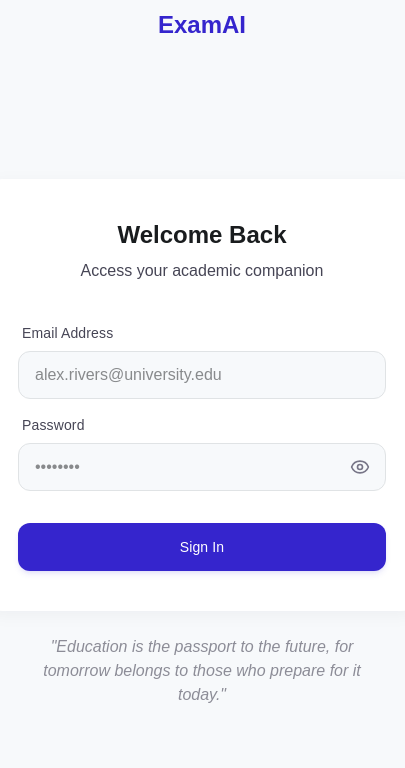
Test case: Login › shows the error banner when login fails
Type "student@examai.com" into the field labelled "Email Address" at (202, 375), box x1=18 y1=351 x2=386 y2=399
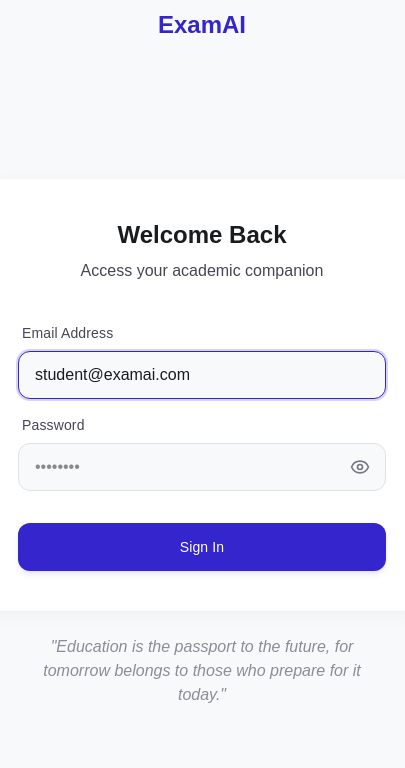
Type "wrong" into the password field labelled "Password" at (202, 467), box x1=18 y1=443 x2=386 y2=491
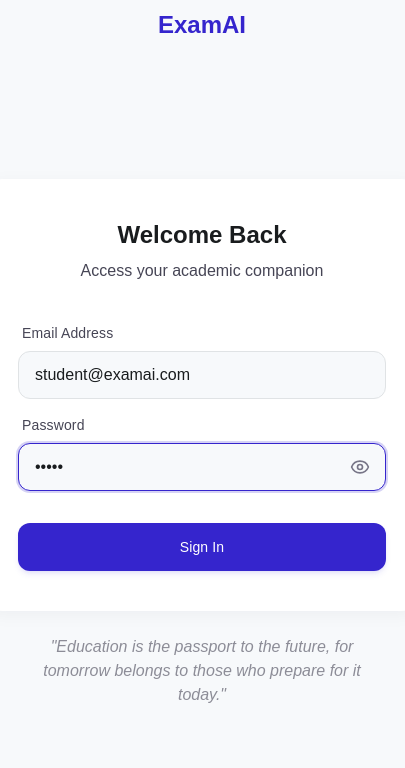
Click the button "Sign In" at (202, 547), box x1=18 y1=523 x2=386 y2=571
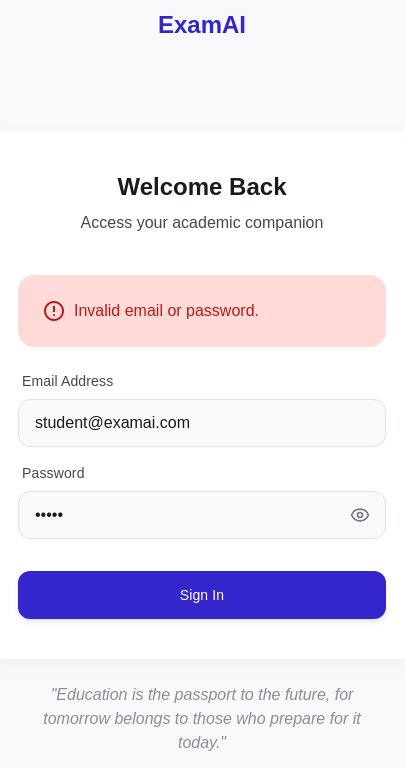
expect the text "Invalid email or password." is shown: met, box x1=74 y1=299 x2=259 y2=323
